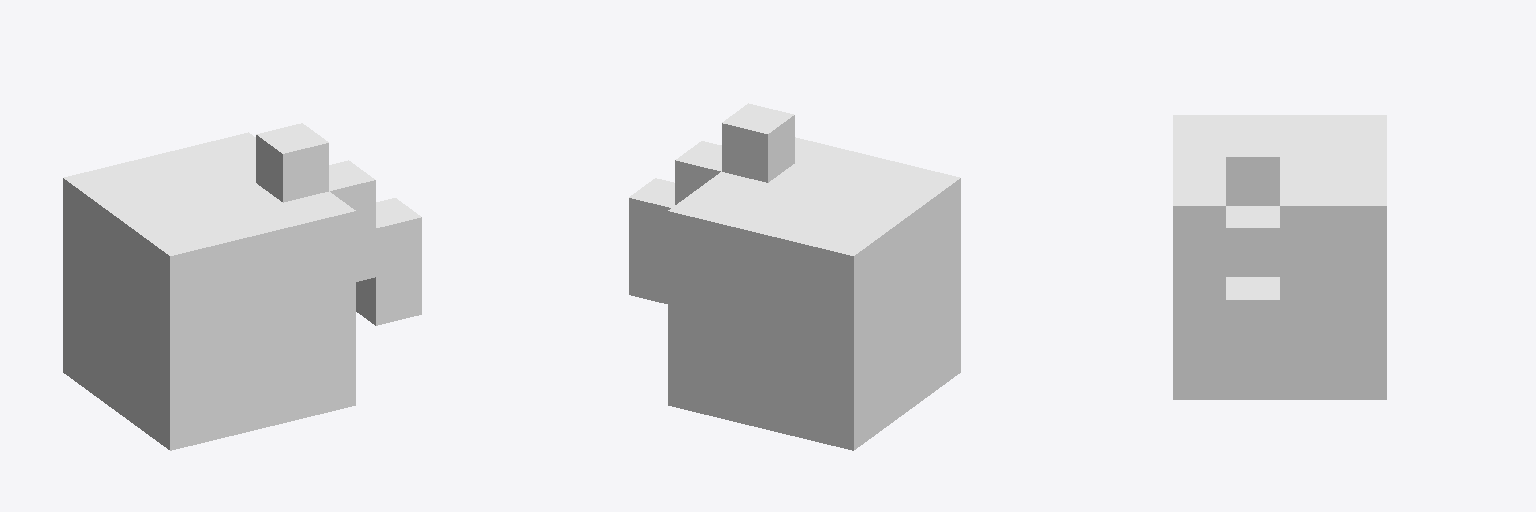
File: fez.obj
3 renders of one model, left to right at view 1: azimuth 30°, elevation 25°; view 2: azimuth 150°, elevation 25°; view 3: azimuth 270°, elevation 25°, orthographic.
Visible parts, largest first — view 1: object 1; view 2: object 1; view 3: object 1.
Part boxes in pixels (left/top/right/bottom): object 1: left=63, top=123, right=421, bottom=450; object 1: left=629, top=103, right=960, bottom=450; object 1: left=1173, top=115, right=1386, bottom=399.
Bounding box in the file's own units: 0.6 × 0.5 × 0.4.